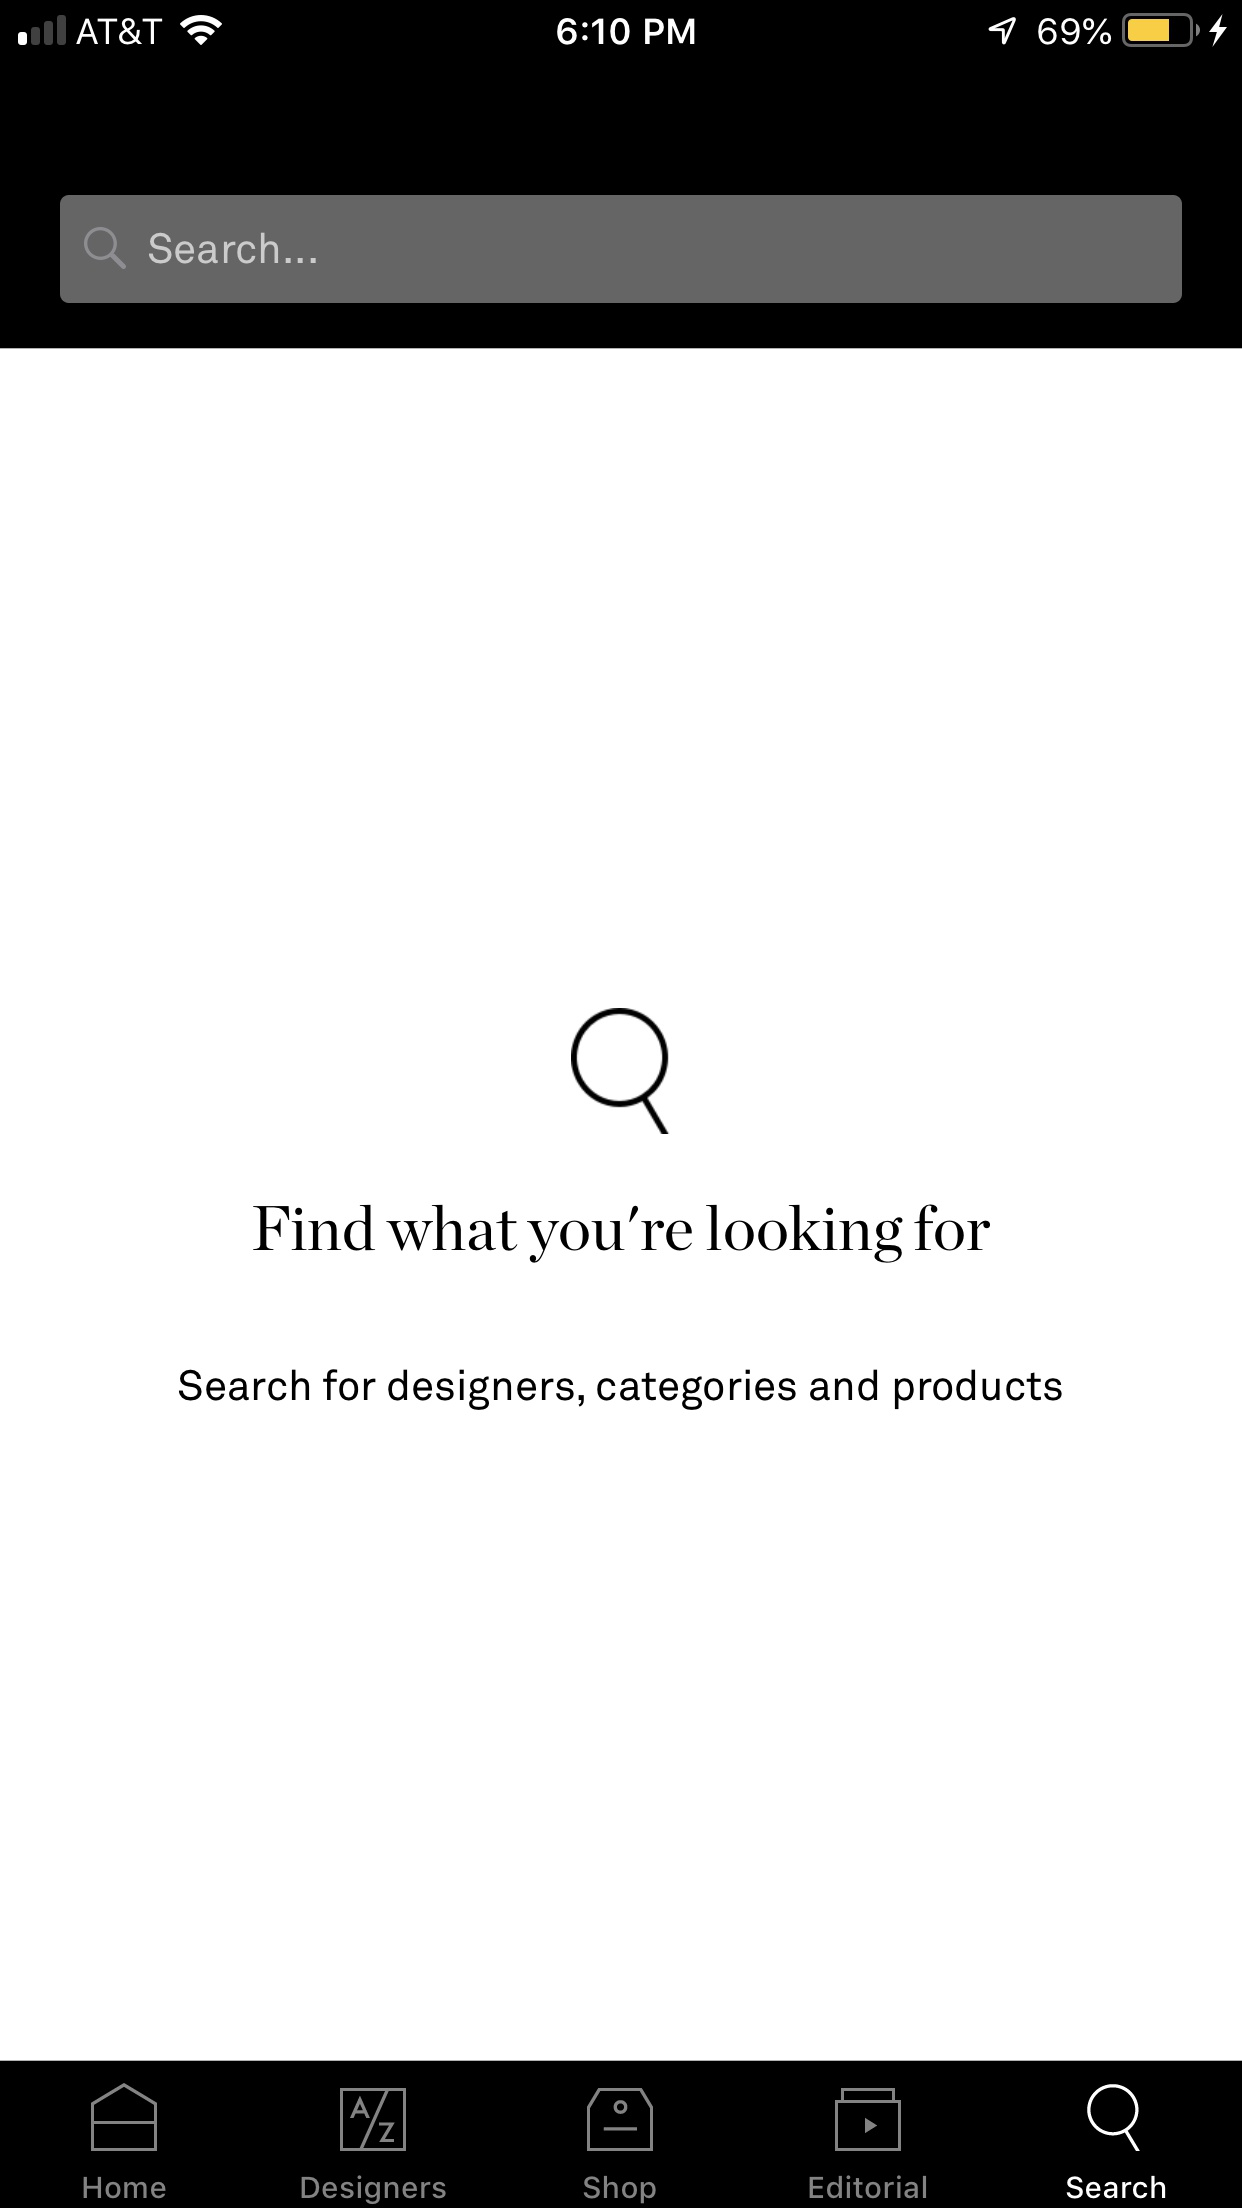EditText: (61, 196, 1183, 303)
Icon: (572, 1007, 670, 1134), (91, 2082, 159, 2152), (834, 2087, 902, 2152), (1086, 2084, 1140, 2152), (83, 227, 127, 271)
Image: (585, 2087, 654, 2152), (340, 2088, 406, 2152)
Text: (252, 1203, 990, 1265), (177, 1368, 1063, 1410), (149, 232, 317, 265), (300, 2175, 447, 2205), (808, 2175, 927, 2199), (1065, 2175, 1166, 2200), (582, 2175, 657, 2203), (83, 2176, 167, 2200)
UpperTaskBar: (2, 2, 1242, 49)
